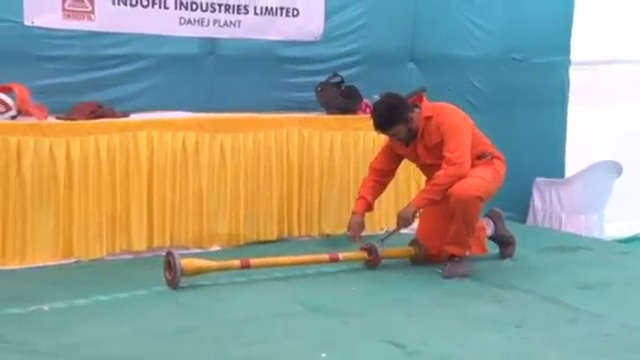helmet_off: (371, 93, 421, 145)
person: (340, 87, 519, 266)
